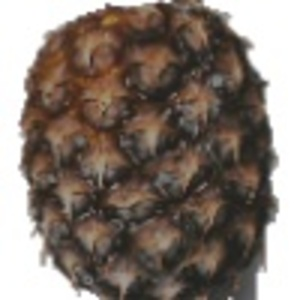abacaxi: (17, 2, 286, 298)
